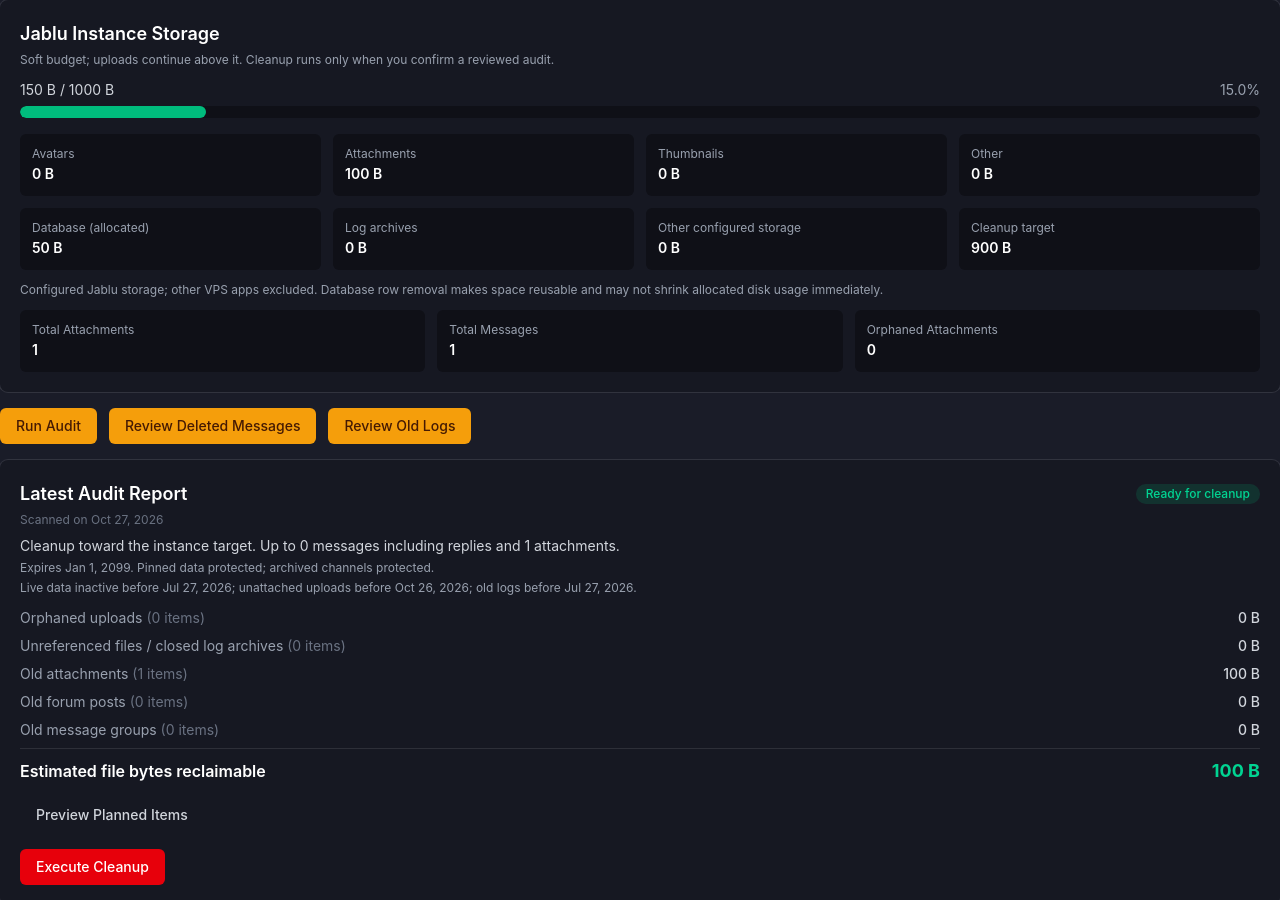
Test: Storage UI safety contracts › does not resurface an older completed report after the latest report executes
The width and height of the screenshot is (1280, 900).
Click the button "Execute Cleanup" at (92, 867), box [20, 849, 165, 885]
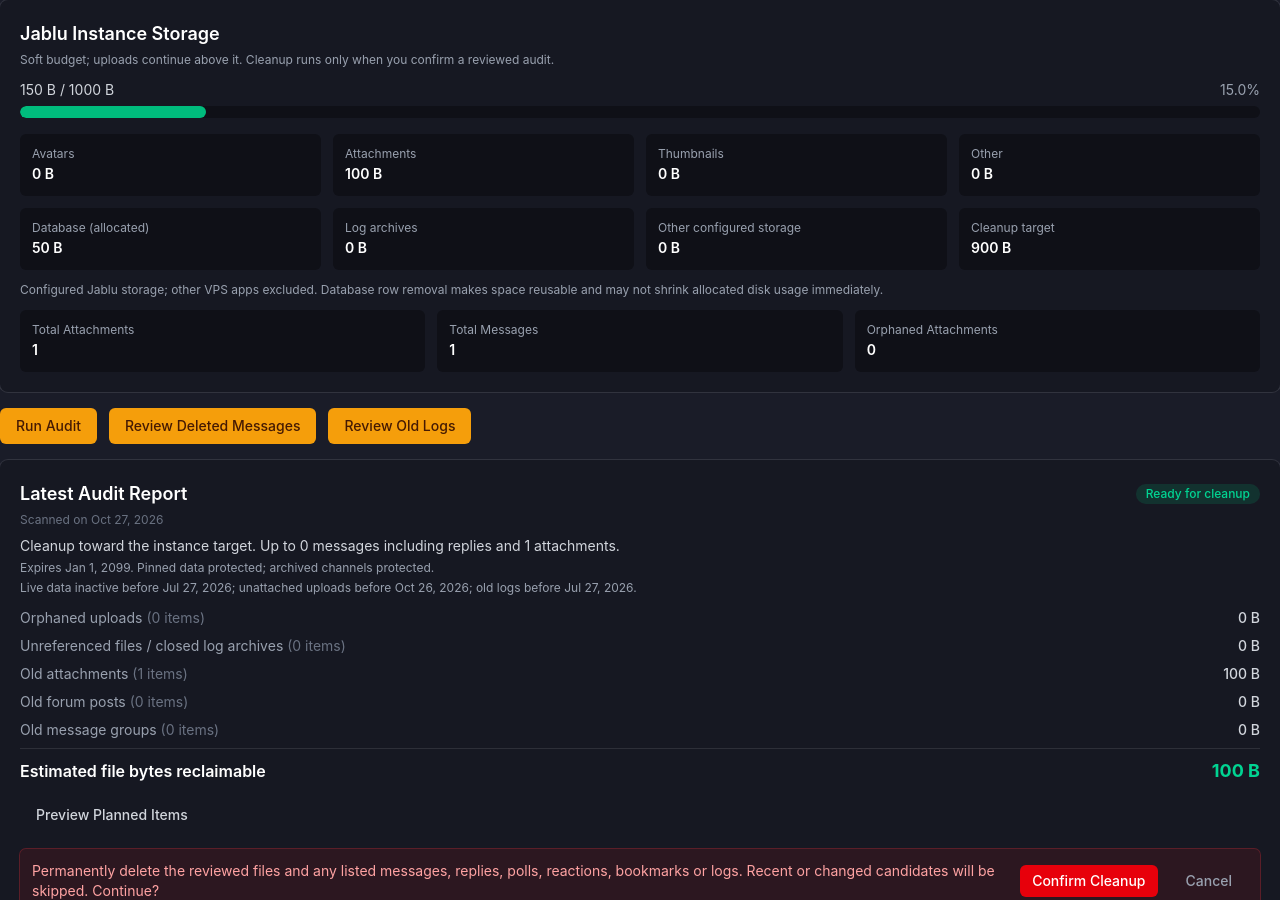
Click the button "Confirm Cleanup" at (1089, 881), box [1020, 865, 1158, 897]
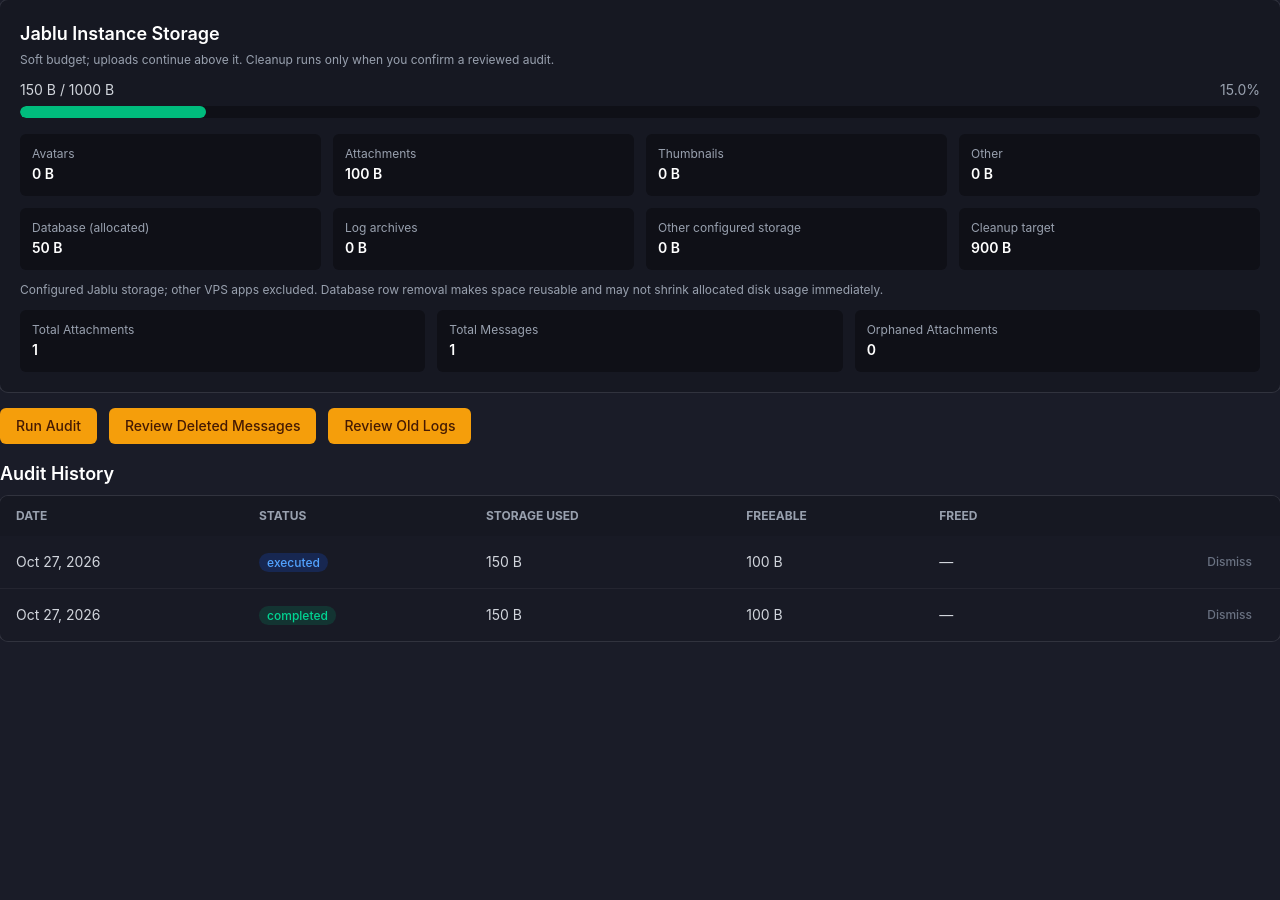
Expected: the button "Execute Cleanup" is not shown
Now the text "executed" is shown, box [259, 553, 328, 572]
